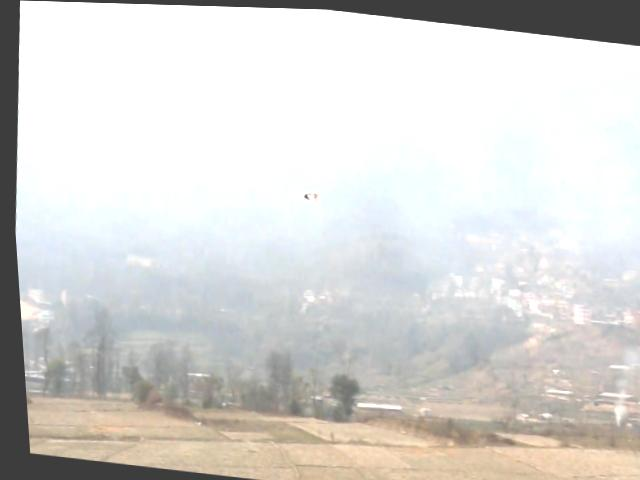plane: (285, 181, 318, 204)
